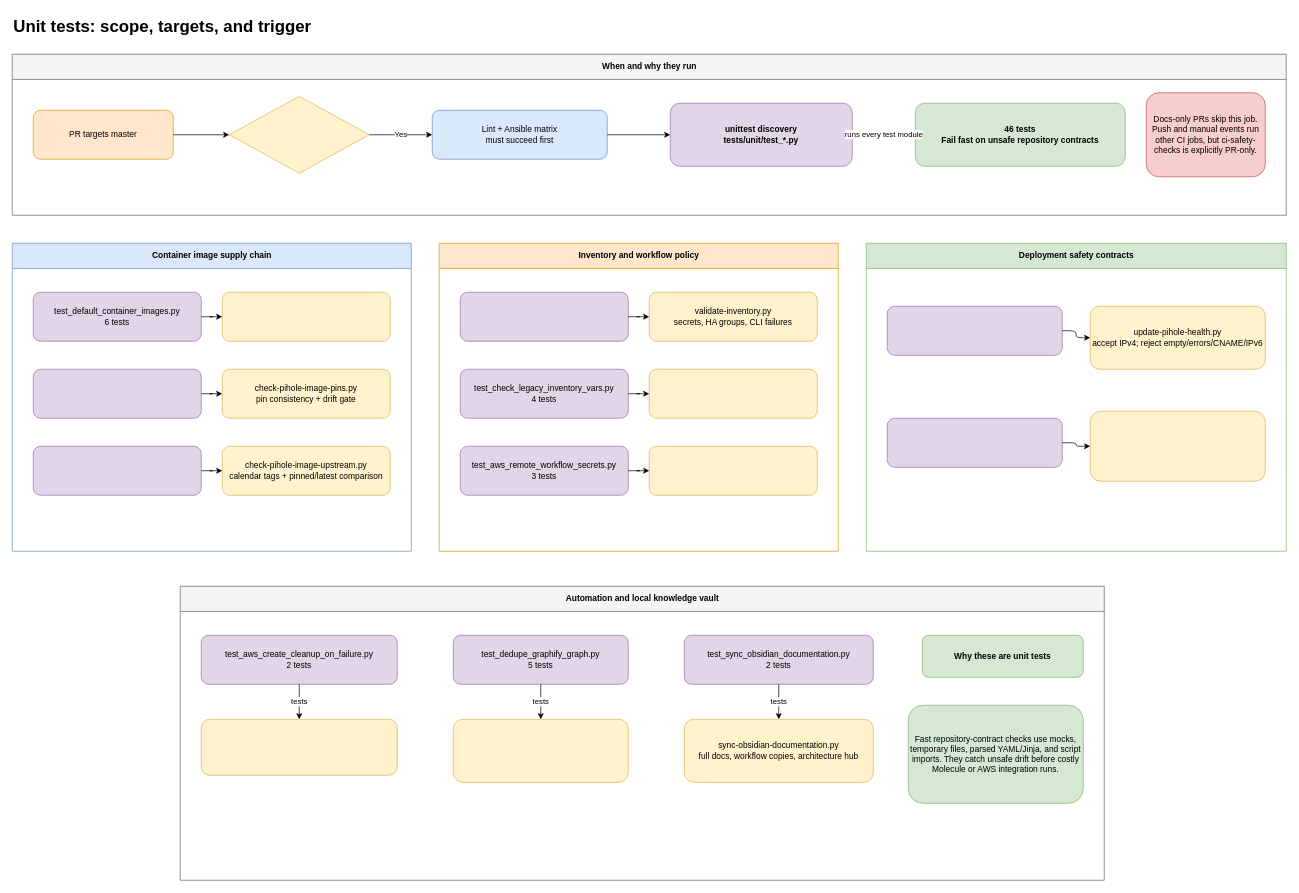
This 1299x893 diagram has some shape labels left out. The shapes that lost their labels are listed below. From the top down, each one's centre as x and y in pixels, then its label:
the point at 299,134: Non-doc change code=true
the point at 306,316: default-container-images.py role defaults + Trivy matrix
the point at 544,316: test_validate_inventory.py 6 tests
the point at 974,330: test_update_pihole_health.py 5 tests
the point at 117,393: test_check_pihole_image_pins.py 4 tests
the point at 733,393: check-legacy-inventory-vars.py deprecated key detection
the point at 974,442: test_update_pihole_playbook.py 6 tests
the point at 1177,446: HA playbooks + Compose template serial: 1, safety flags, VIP retry, DHCP port
the point at 117,470: test_check_pihole_image_upstream.py 3 tests
the point at 733,470: AWS remote workflow YAML secret use, outputs, cleanup guards
the point at 299,747: tests/remote/aws/create-ephemeral-env.sh cleanup after ingress/wait failures
the point at 540,750: dedupe-graphify-graph.py normalization, merge, rewiring, pruning, dry-run
